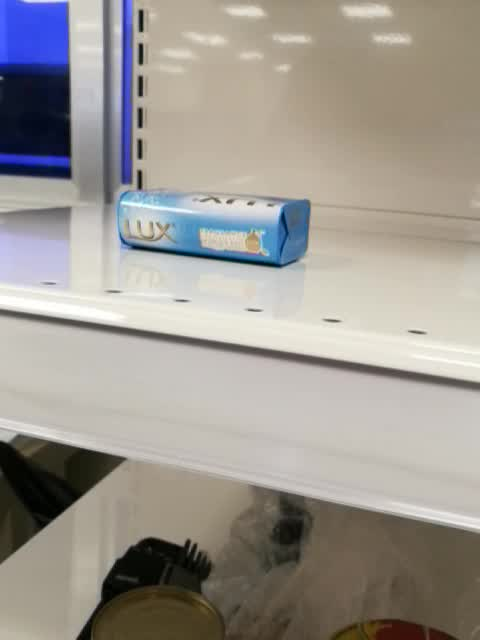soap: (115, 188, 312, 269)
